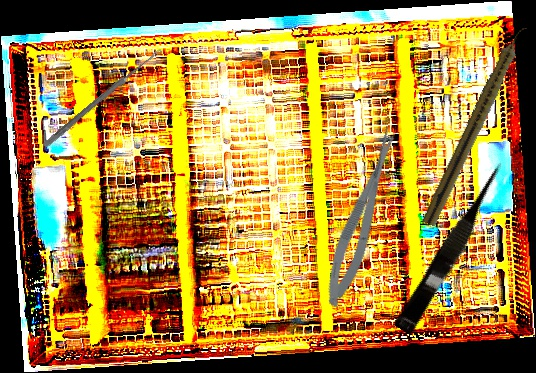Handpiece: (421, 22, 532, 229)
Micro Scissor: (392, 158, 516, 338), (316, 123, 410, 311)
Surgical Spoon: (42, 45, 164, 150)
